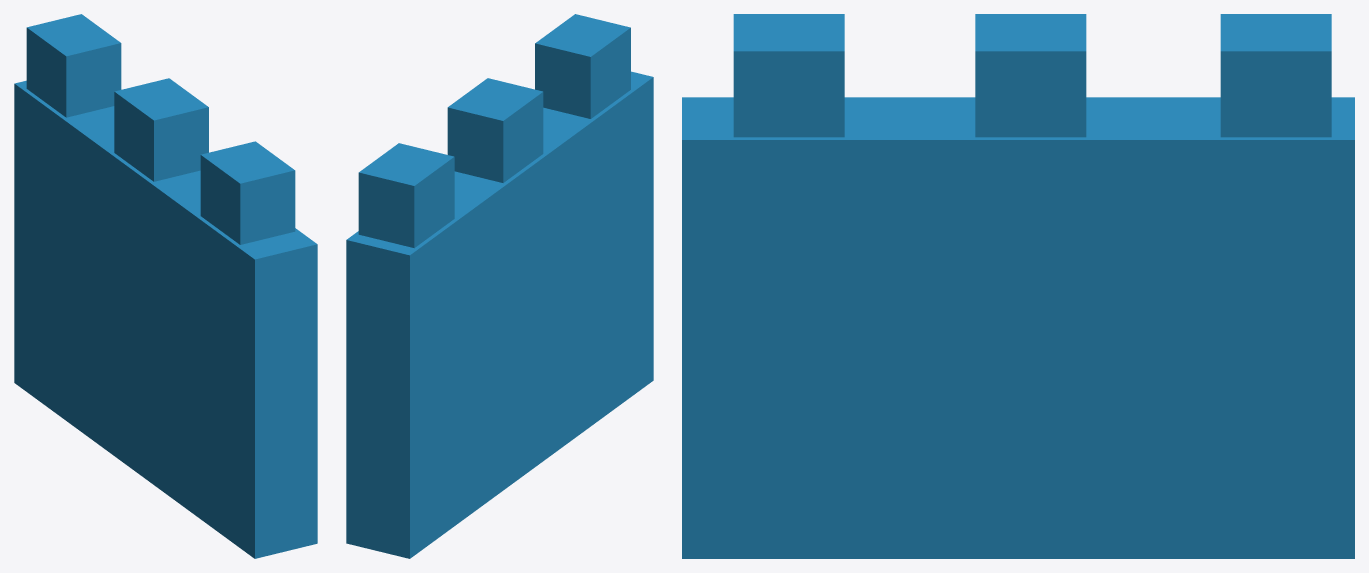
The model's file is Tower5_Blue.fbx.
3 renders of one model, left to right at view 1: azimuth 30°, elevation 25°; view 2: azimuth 150°, elevation 25°; view 3: azimuth 270°, elevation 25°, orthographic. The views are drawn at different scales.
Parts seen in each view (by area): view 1: Cube.035; view 2: Cube.035; view 3: Cube.035.
Boxes of the visible parts, box(x1,y1,x2,y2) form: Cube.035: box(14, 14, 317, 558); Cube.035: box(346, 14, 653, 558); Cube.035: box(682, 14, 1354, 558).
Bounding box in the file's own units: 0.7595 × 5.05 × 4.18.
